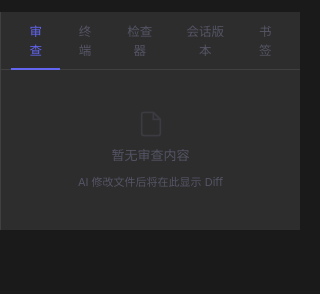
Scenario: RightPanel versions › shows local session versions for archived sessions with project context
Click the button "会话版本" at {"x": 205, "y": 41}, box left=170, top=12, right=241, bottom=70
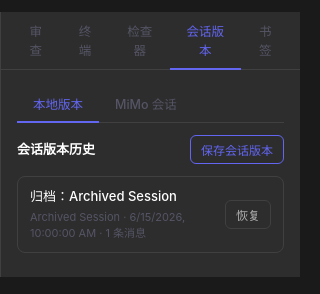
Expected: the text "归档：Archived Session" is shown, left=30, top=188, right=177, bottom=204
Expected: the text "Archived Session · 6/15/2026, 10:00:00 AM · 1 条消息" is shown, left=30, top=210, right=185, bottom=240
